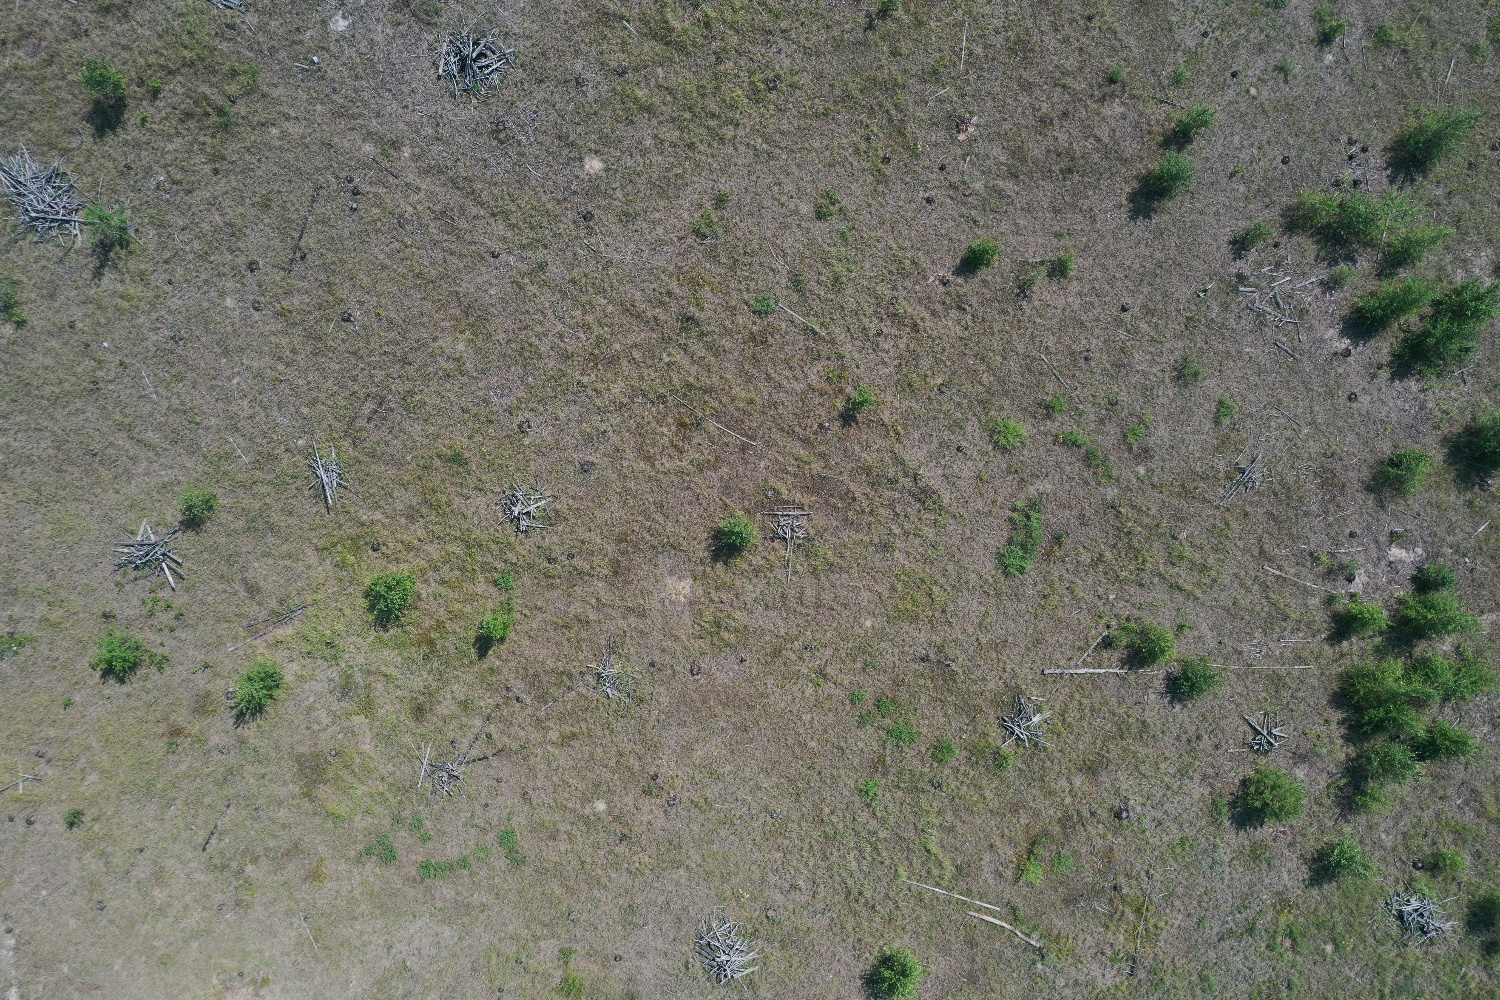branches: (1, 143, 87, 246), (436, 25, 518, 102), (694, 907, 762, 991), (115, 518, 185, 590), (1382, 879, 1440, 949), (497, 479, 562, 532), (308, 435, 350, 509), (999, 696, 1055, 749), (1242, 710, 1290, 753), (427, 753, 471, 797), (765, 504, 812, 541), (588, 658, 625, 698), (1234, 455, 1265, 493)
